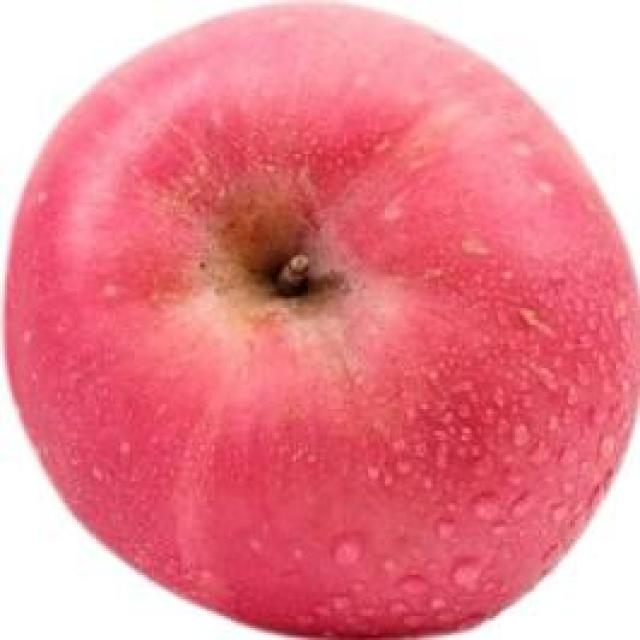Rotten Apple: (17, 2, 628, 638)
